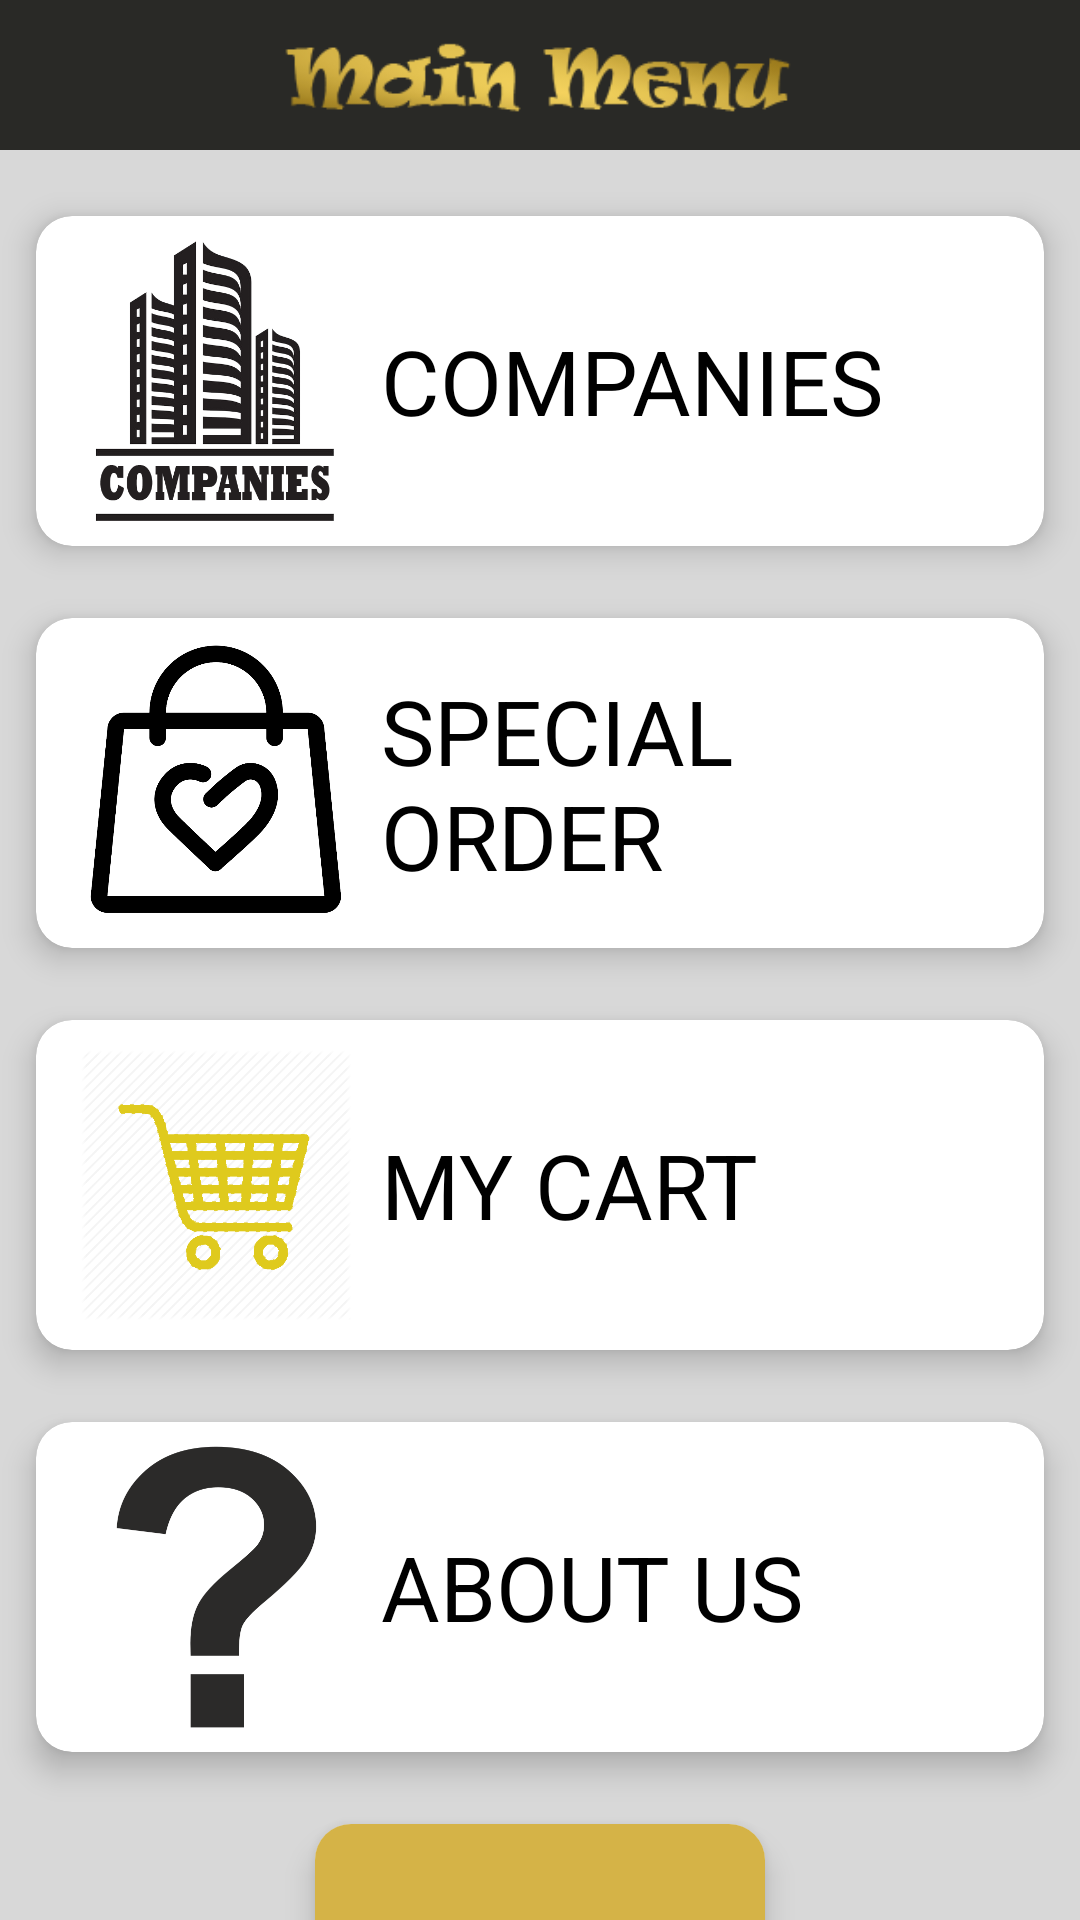

Named icons in this screenshot (1080 × 1920) and their bounding boxes, (x1, y1, x2, y2):
qmark: (116, 1446, 316, 1728)
